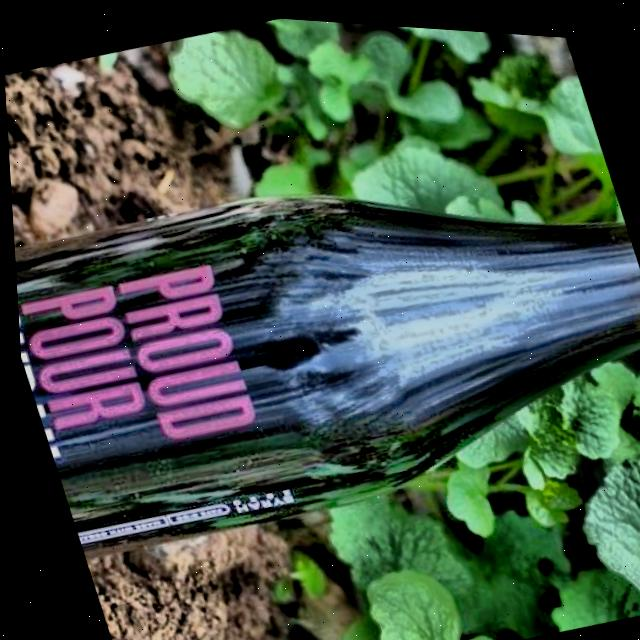glass: (11, 190, 640, 566)
